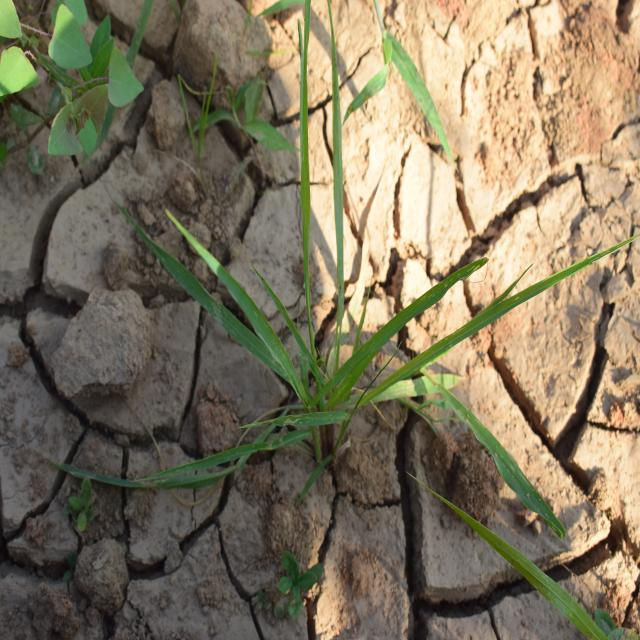green_foxtail: (172, 125, 490, 457)
